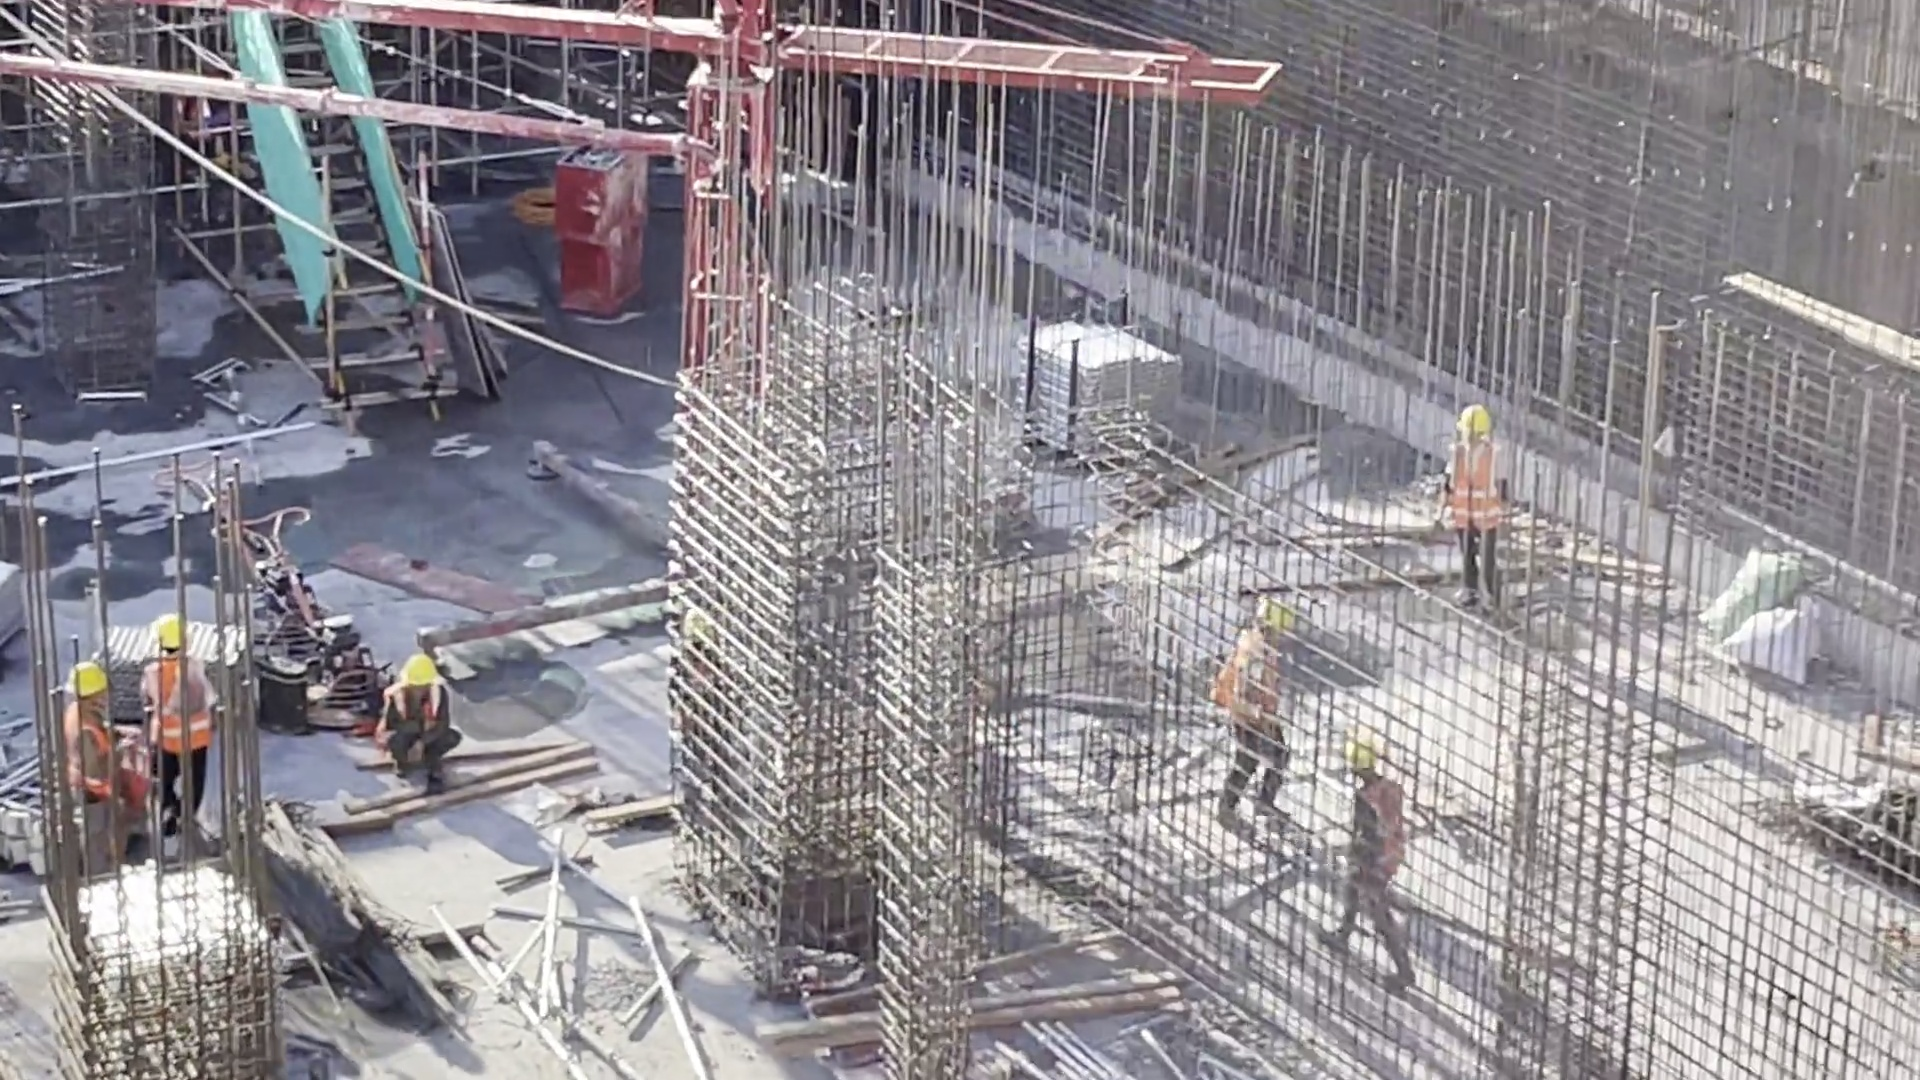helmet: (66, 660, 107, 700), (1454, 400, 1499, 435), (151, 613, 186, 656), (400, 653, 440, 687), (1259, 594, 1301, 627), (1347, 743, 1380, 778)
person: (1326, 743, 1437, 1004), (130, 594, 230, 843), (47, 661, 166, 858), (1215, 595, 1310, 841), (1445, 389, 1518, 624), (371, 653, 466, 793)
scaffold: (1011, 322, 1159, 470), (107, 609, 269, 722), (6, 735, 80, 874), (1, 549, 29, 640)
vest: (138, 659, 200, 763), (1217, 626, 1279, 730), (1447, 439, 1501, 536), (366, 689, 457, 745), (1348, 782, 1408, 862), (60, 706, 108, 798)
